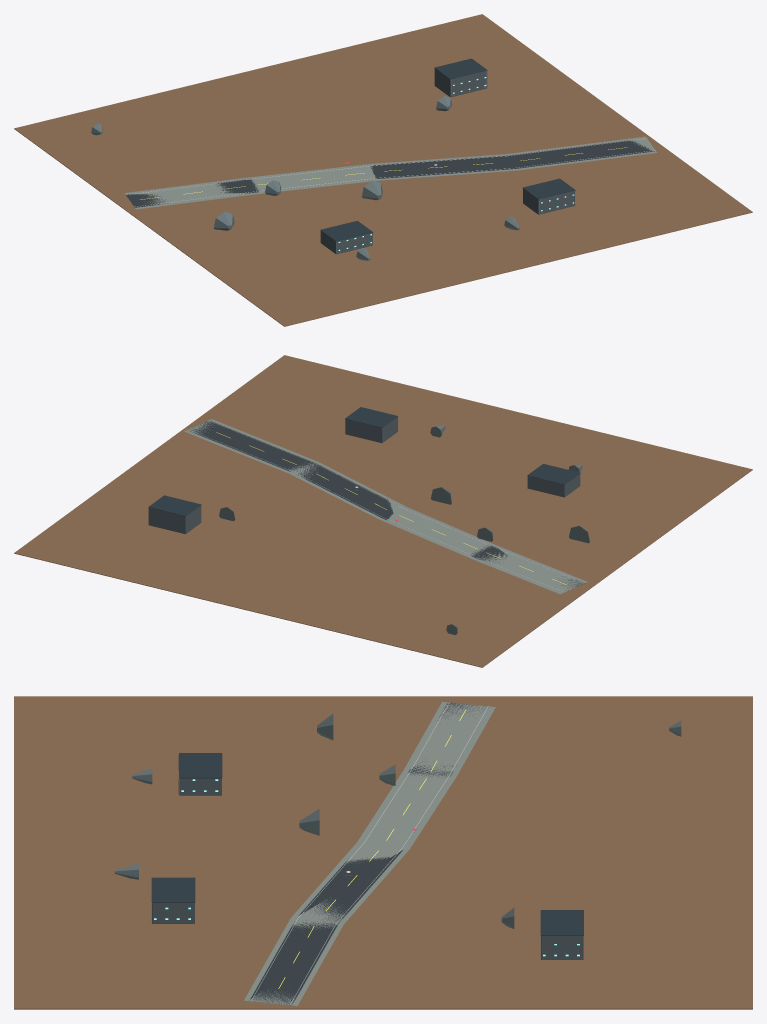
Rendered from cinder_flats.glb.
3 views of the same model, one above another, from view 1: azimuth 30°, elevation 25°; view 2: azimuth 150°, elevation 25°; view 3: azimuth 270°, elevation 25° (orthographic). The views are drawn at different scales.
Visible parts, largest first — view 1: CINDER FLATS sector ground, CINDER FLATS regional road shoulder, CINDER FLATS regional road, modular building body.020, modular building body.019, modular building body.018, building roof coping.019, building roof coping.018, building roof coping.020; view 2: CINDER FLATS sector ground, CINDER FLATS regional road shoulder, CINDER FLATS regional road, modular building body.020, modular building body.019, modular building body.018, building roof coping.018, building roof coping.020, building roof coping.019; view 3: CINDER FLATS sector ground, CINDER FLATS regional road shoulder, CINDER FLATS regional road, building roof coping.019, building roof coping.020, building roof coping.018, modular building body.020, modular building body.019, modular building body.018.
Boxes of the visible parts, x1,y1,x2,y2 form: CINDER FLATS sector ground: [14, 14, 752, 326]; CINDER FLATS regional road shoulder: [124, 136, 656, 209]; CINDER FLATS regional road: [126, 140, 654, 207]; modular building body.020: [434, 68, 487, 97]; modular building body.019: [523, 188, 575, 214]; modular building body.018: [320, 231, 372, 254]; building roof coping.019: [522, 178, 575, 199]; building roof coping.018: [320, 220, 373, 241]; building roof coping.020: [434, 58, 487, 79]; CINDER FLATS sector ground: [14, 355, 752, 667]; CINDER FLATS regional road shoulder: [184, 419, 587, 594]; CINDER FLATS regional road: [187, 421, 584, 590]; modular building body.020: [148, 505, 201, 534]; modular building body.019: [345, 417, 397, 442]; modular building body.018: [527, 474, 580, 497]; building roof coping.018: [527, 463, 580, 484]; building roof coping.020: [148, 495, 201, 516]; building roof coping.019: [345, 407, 397, 427]; CINDER FLATS sector ground: [14, 696, 752, 1009]; CINDER FLATS regional road shoulder: [244, 701, 495, 1005]; CINDER FLATS regional road: [249, 702, 488, 1005]; building roof coping.019: [151, 877, 195, 902]; building roof coping.020: [540, 910, 583, 935]; building roof coping.018: [179, 753, 222, 778]; modular building body.020: [541, 935, 583, 959]; modular building body.019: [152, 903, 194, 923]; modular building body.018: [179, 778, 221, 795].
Bounding box in the file's own units: 190 × 9.61 × 190.
